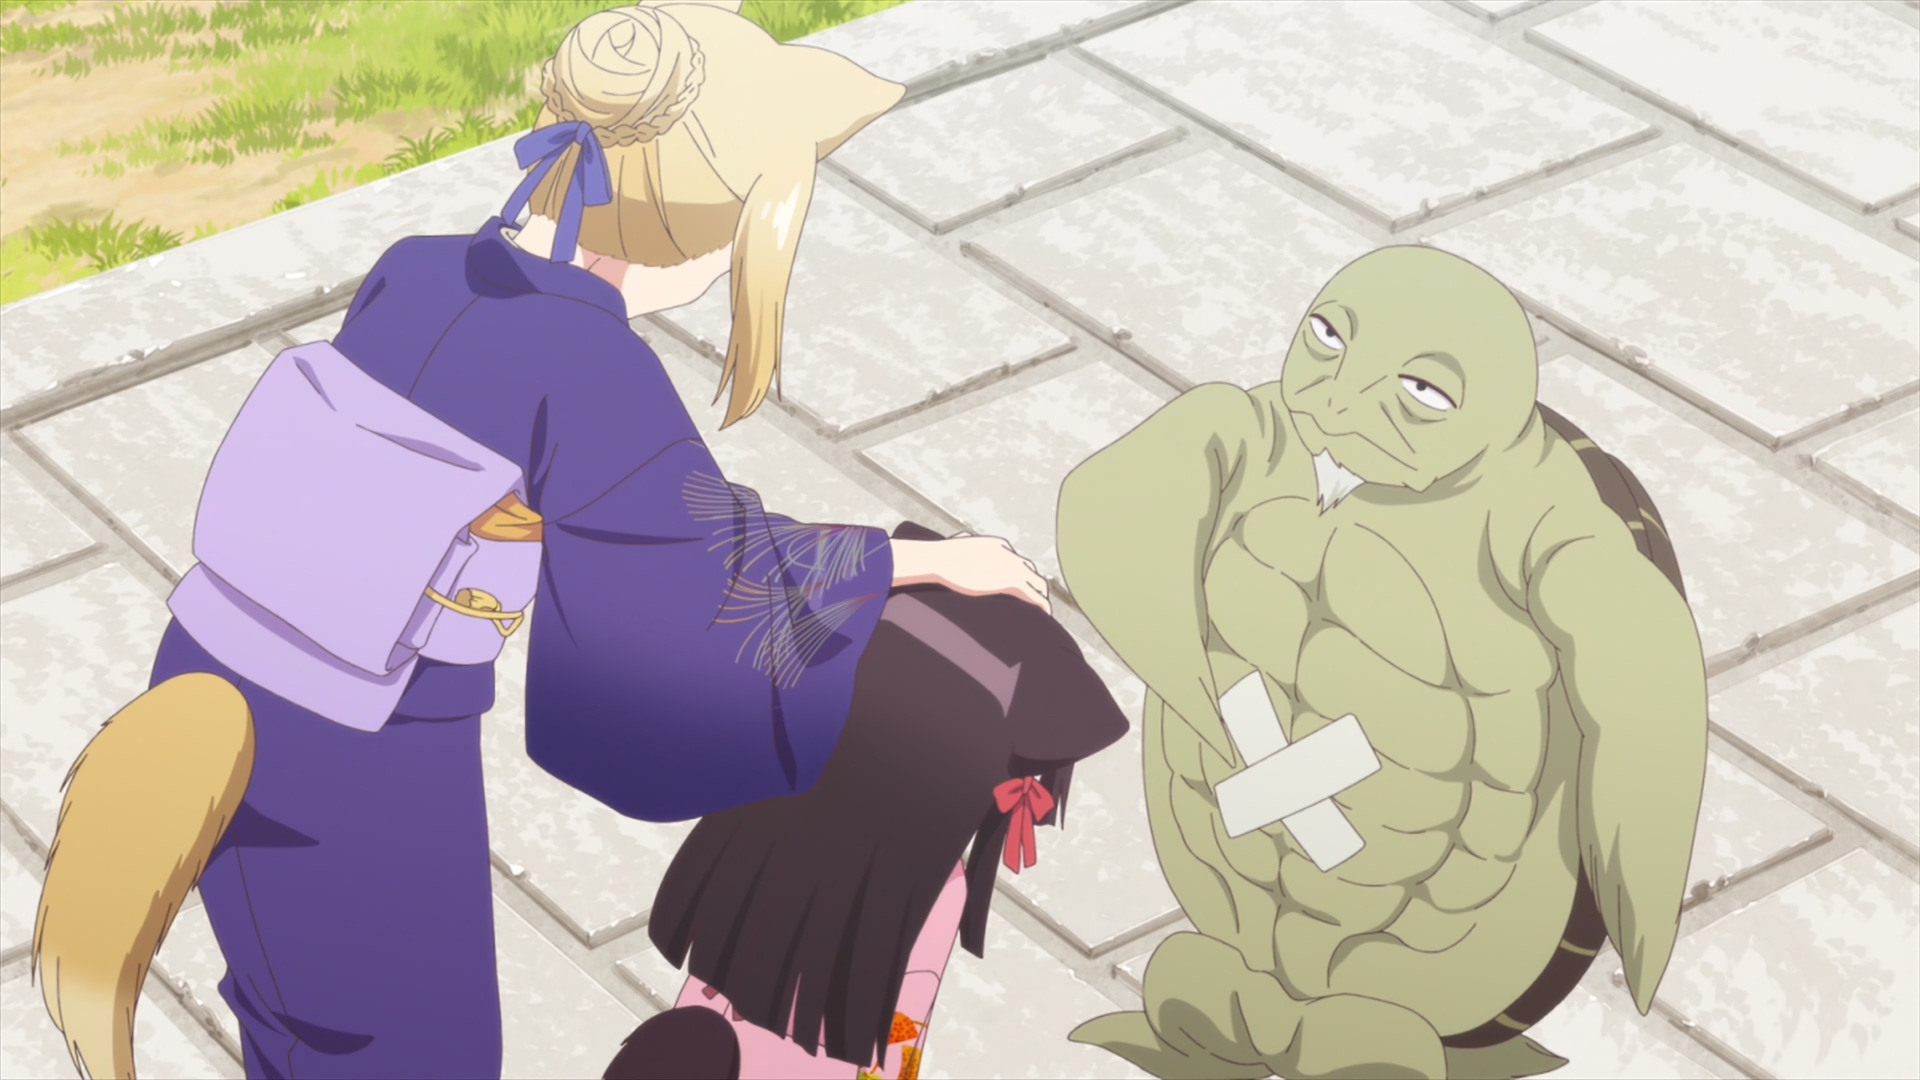其他: (1055, 247, 1708, 1080)
桐: (29, 1, 1050, 1080)
樱: (601, 522, 1131, 1080)
